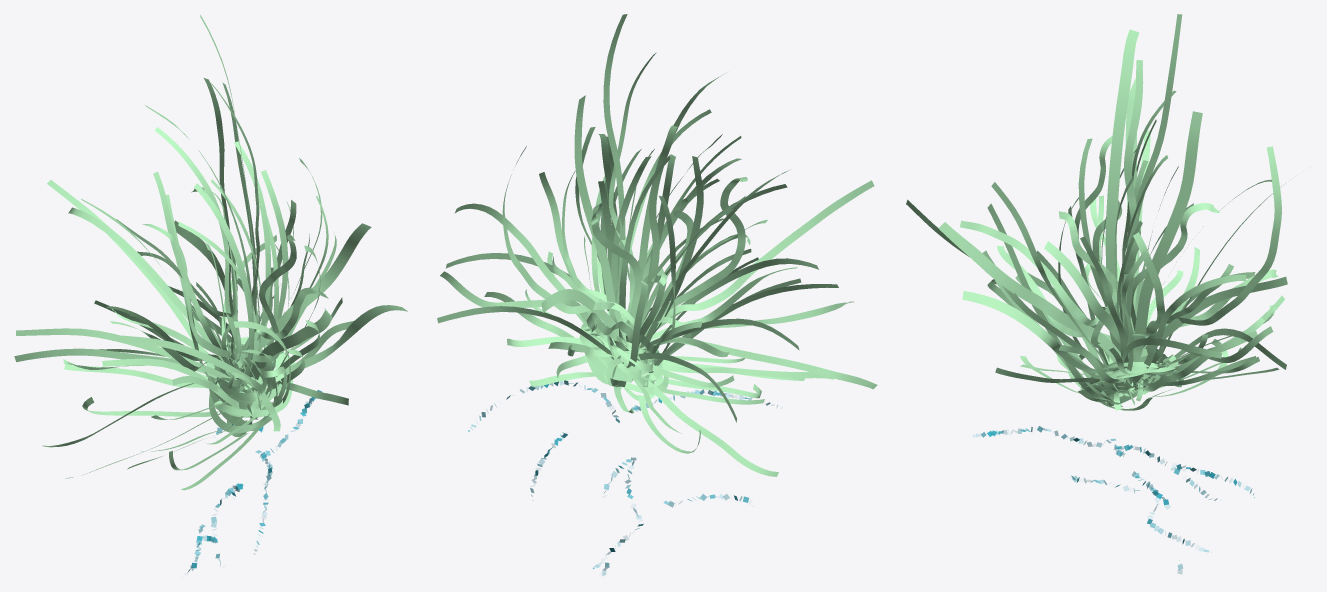
The picture shows the model from 3 angles, left to right: view 1: azimuth 30°, elevation 25°; view 2: azimuth 150°, elevation 25°; view 3: azimuth 270°, elevation 25°; orthographic projection. The views are drawn at different scales.
Parts seen in each view (by area): view 1: brush_CelVinyl_g0_b0, brush_Embers_g0_b0; view 2: brush_CelVinyl_g0_b0, brush_Embers_g0_b0; view 3: brush_CelVinyl_g0_b0, brush_Embers_g0_b0.
Boxes of the visible parts, bbox=[...] form: brush_CelVinyl_g0_b0: bbox=[14, 14, 407, 490]; brush_Embers_g0_b0: bbox=[182, 390, 321, 577]; brush_CelVinyl_g0_b0: bbox=[437, 14, 877, 476]; brush_Embers_g0_b0: bbox=[468, 380, 777, 575]; brush_CelVinyl_g0_b0: bbox=[906, 14, 1287, 410]; brush_Embers_g0_b0: bbox=[973, 426, 1254, 573].
Size of the model in its own units: 0.5855 by 0.8733 by 0.5819.
